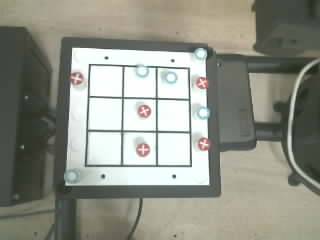blue circle: (64, 169, 79, 183), (164, 71, 178, 84), (197, 107, 210, 119), (135, 65, 148, 76), (194, 48, 207, 59)
board: (65, 48, 211, 185)
cells: (87, 132, 120, 164), (158, 133, 190, 165), (123, 133, 155, 165), (88, 98, 121, 129), (123, 99, 155, 130), (90, 66, 122, 96), (158, 68, 189, 98), (158, 100, 189, 130), (124, 67, 155, 97)
grid: (85, 64, 191, 166)
red cross: (69, 72, 84, 86), (136, 143, 149, 156), (137, 105, 151, 117), (196, 77, 209, 89), (198, 137, 210, 150)
